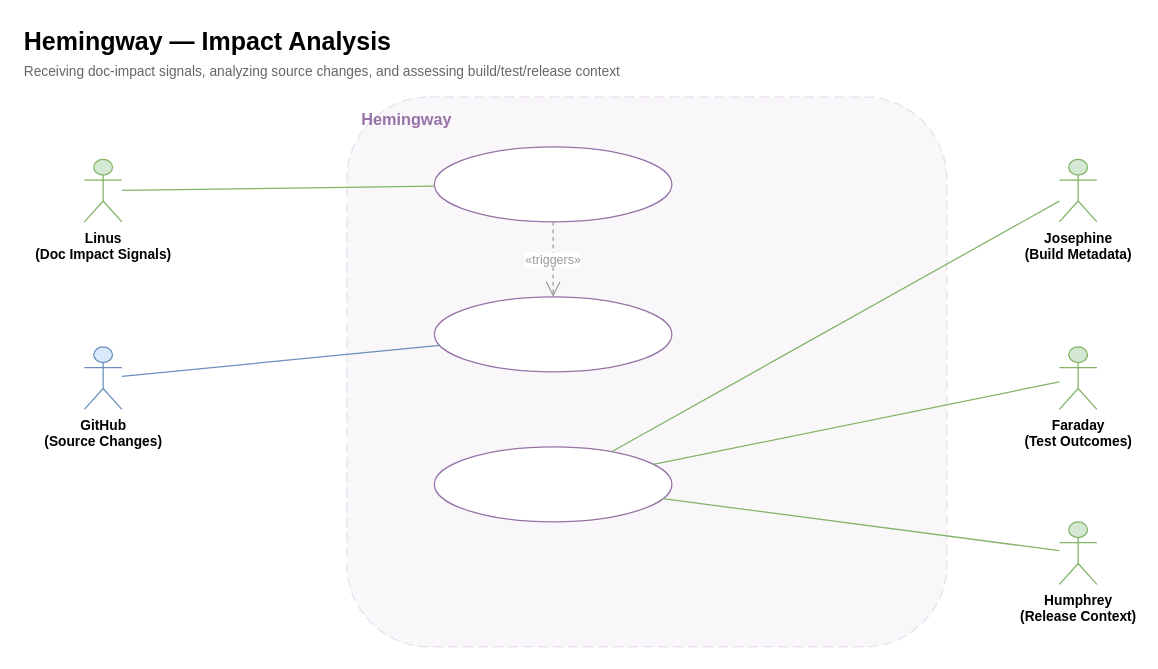
The diagram is 1158 pixels wide and 669 high, and some of its shapes have lost their labels. Each missing label, with the centre of its shape:
"Analyze Source Changes" belongs at pixel 552 334.
"Assess Build / Test / Release Context" belongs at pixel 552 484.
"Receive Doc Impact Signal from Linus" belongs at pixel 552 184.
